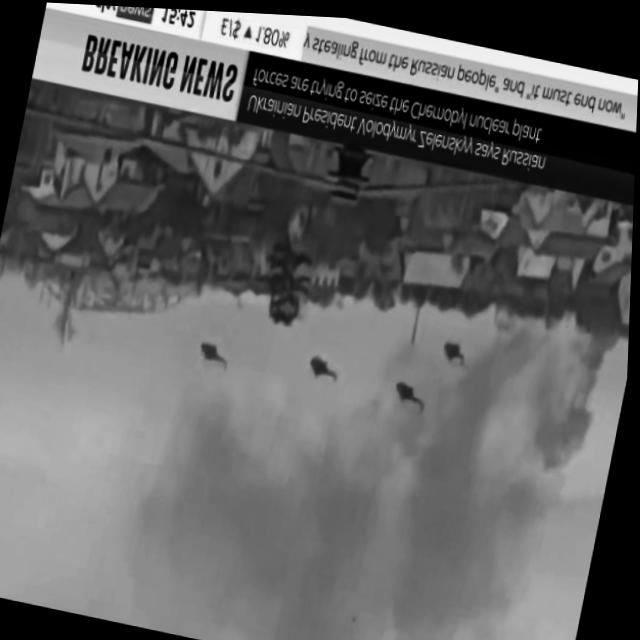helikopter: (182, 309, 250, 400), (294, 330, 362, 411), (373, 358, 444, 435)
